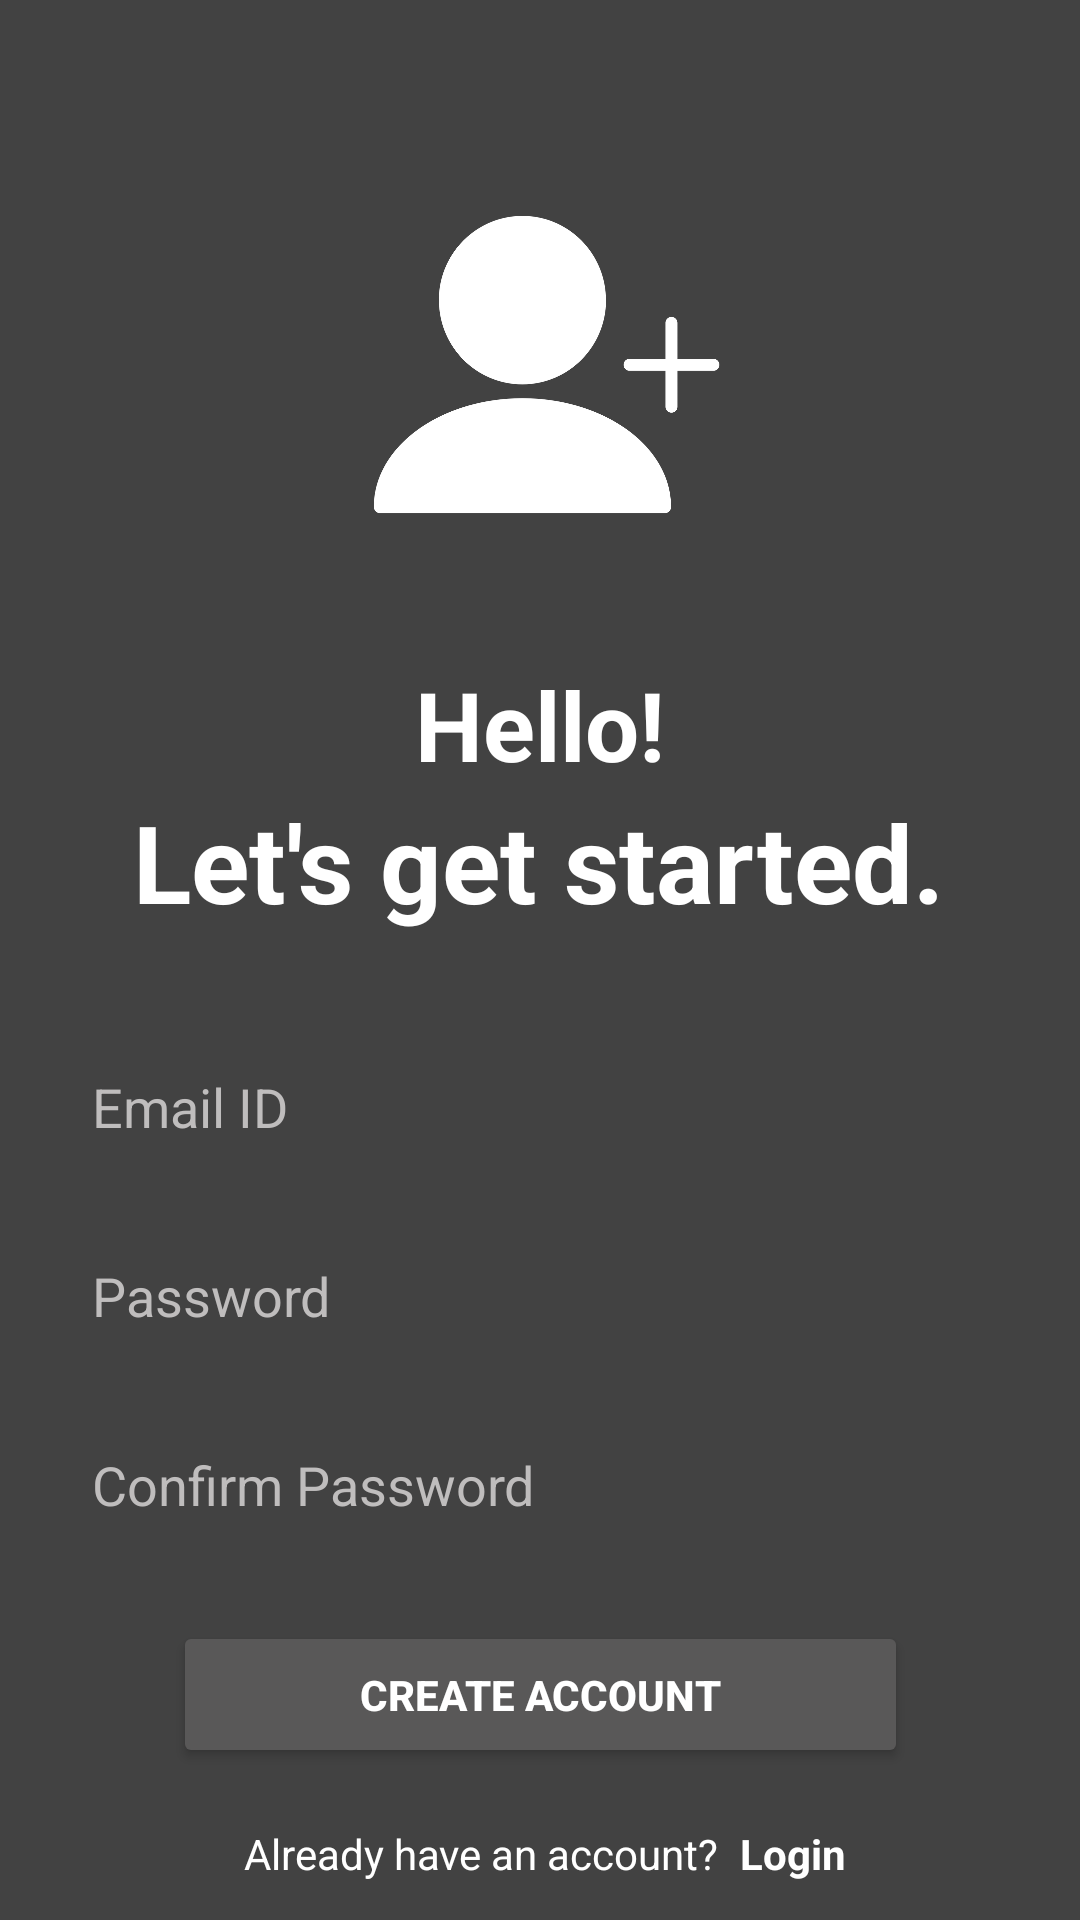

Named icons in this screenshot (1080x1920) and their bounding boxes, (x1, y1, x2, y2):
signup: (374, 216, 720, 513)
